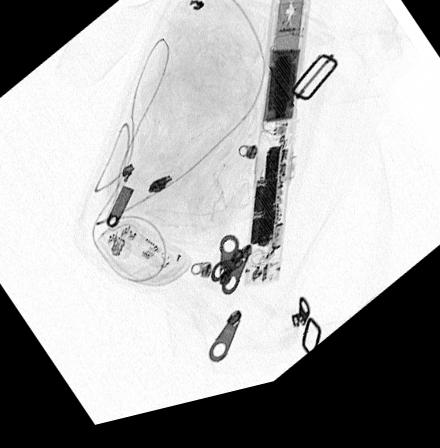Baton: (240, 0, 311, 300)
